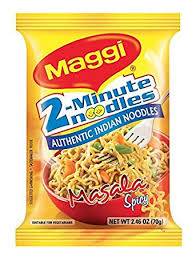maggi: (22, 18, 170, 247)
